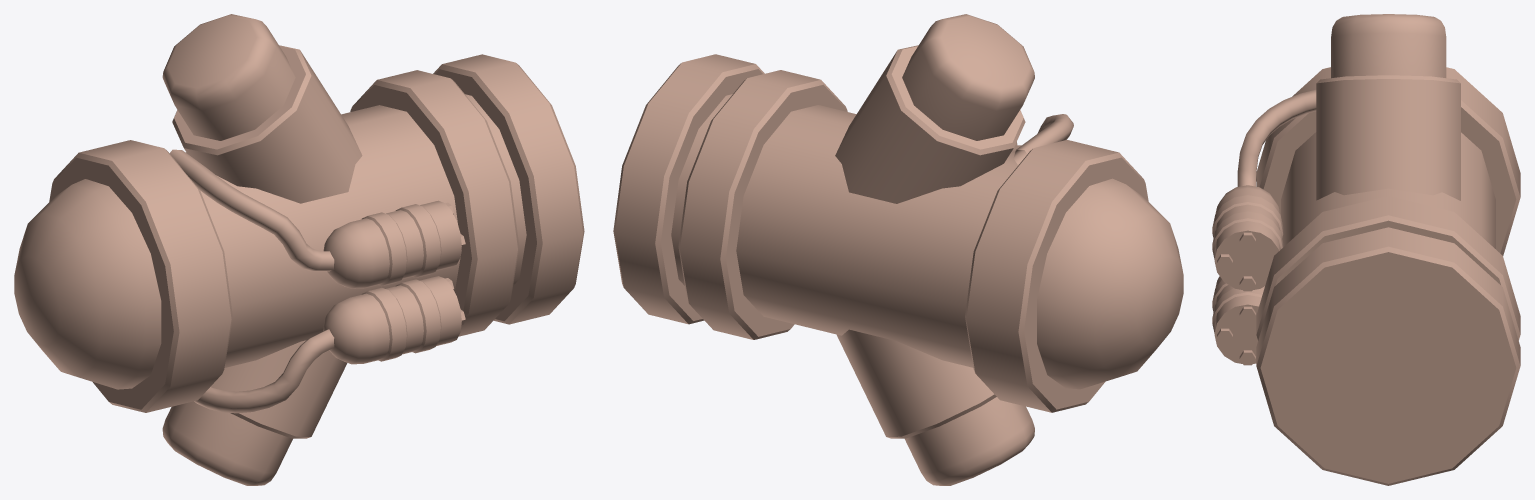
Rendered from gun_4.FBX.
3 renders of one model, left to right at view 1: azimuth 30°, elevation 25°; view 2: azimuth 150°, elevation 25°; view 3: azimuth 270°, elevation 25°, orthographic.
Parts seen in each view (by area): view 1: Cylinder009; view 2: Cylinder009; view 3: Cylinder009.
Boxes of the visible parts, left/top/right/bottom form: Cylinder009: left=14, top=14, right=584, bottom=485; Cylinder009: left=613, top=14, right=1183, bottom=485; Cylinder009: left=1212, top=14, right=1520, bottom=485.
Size of the model in its own units: 133 by 119 by 73.93.
